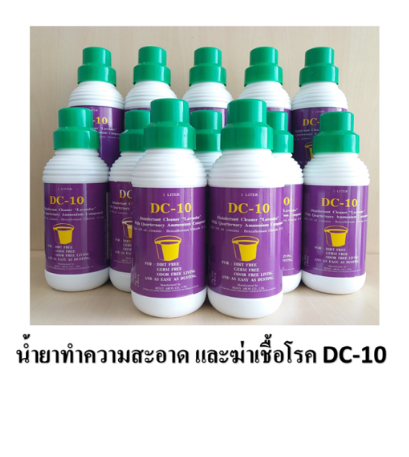Cleaning_solution: (205, 95, 287, 324), (129, 96, 211, 321), (301, 105, 373, 298), (40, 104, 111, 295)
